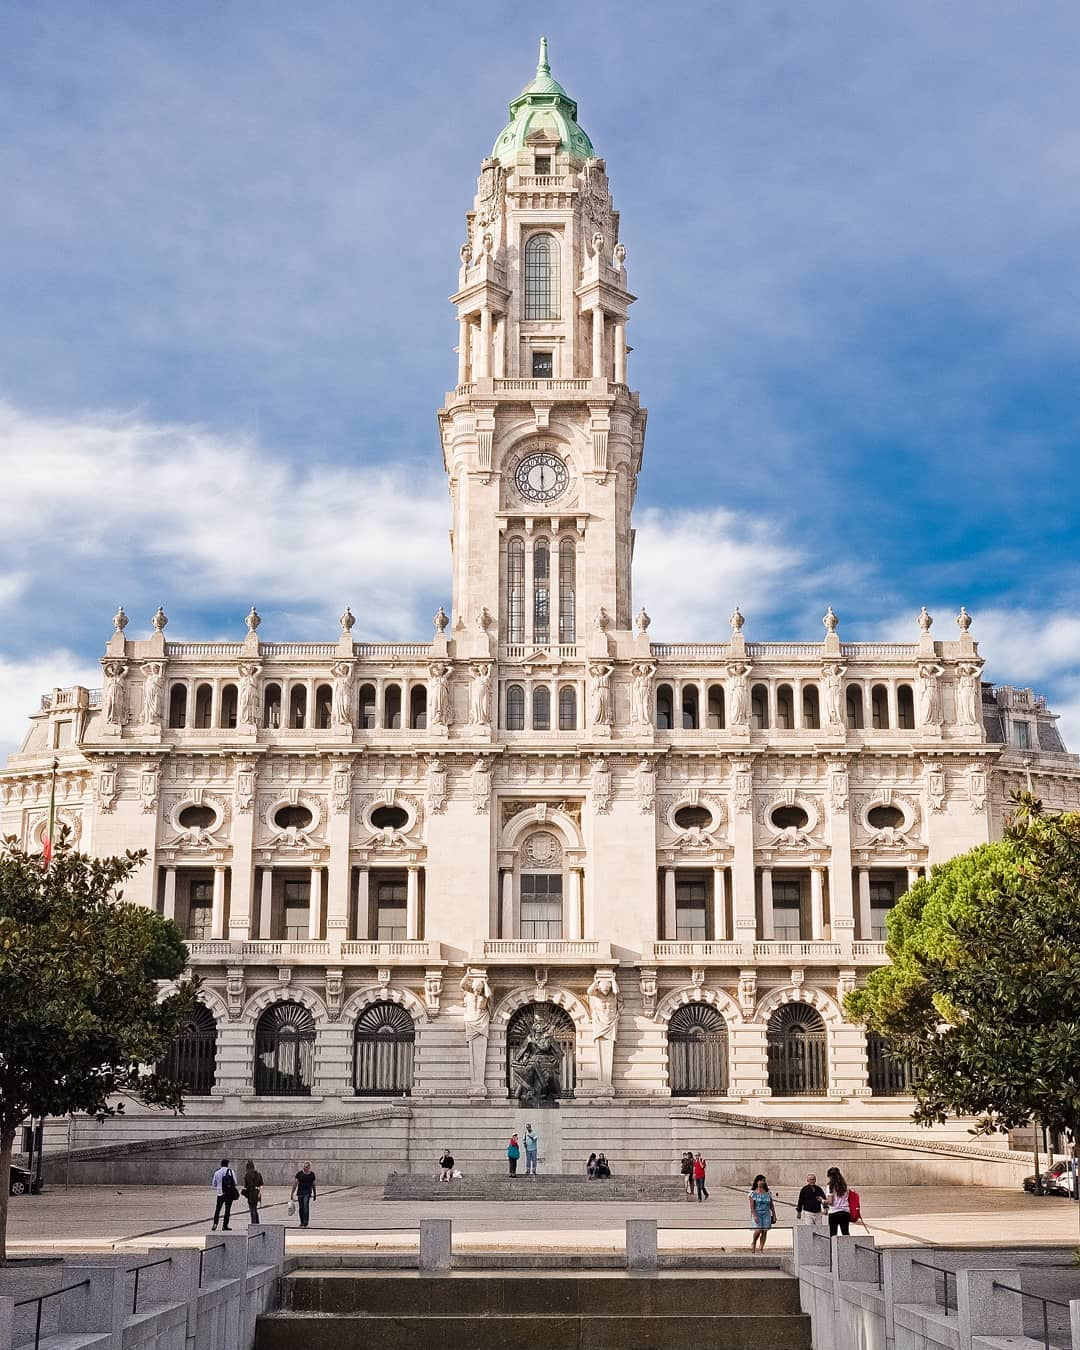camara: (0, 32, 1079, 1153)
